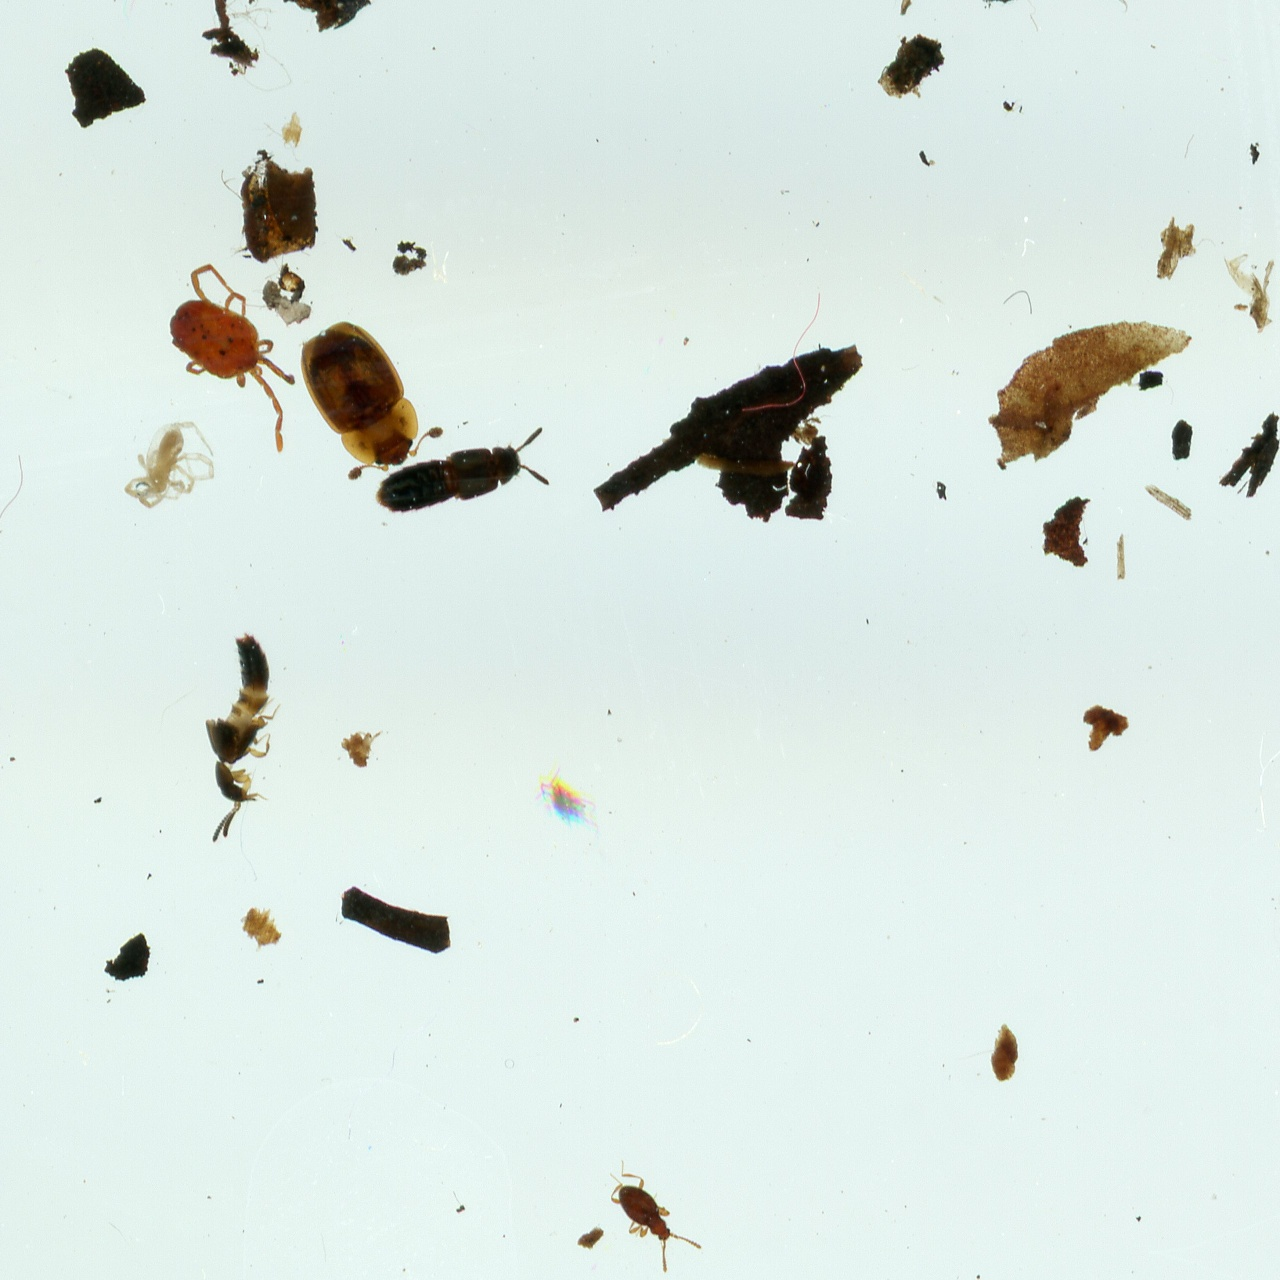arthropod: (131, 251, 349, 458), (278, 295, 451, 492), (360, 424, 558, 533), (202, 628, 284, 847), (588, 1145, 710, 1280), (123, 418, 218, 512), (1074, 0, 1146, 18)
